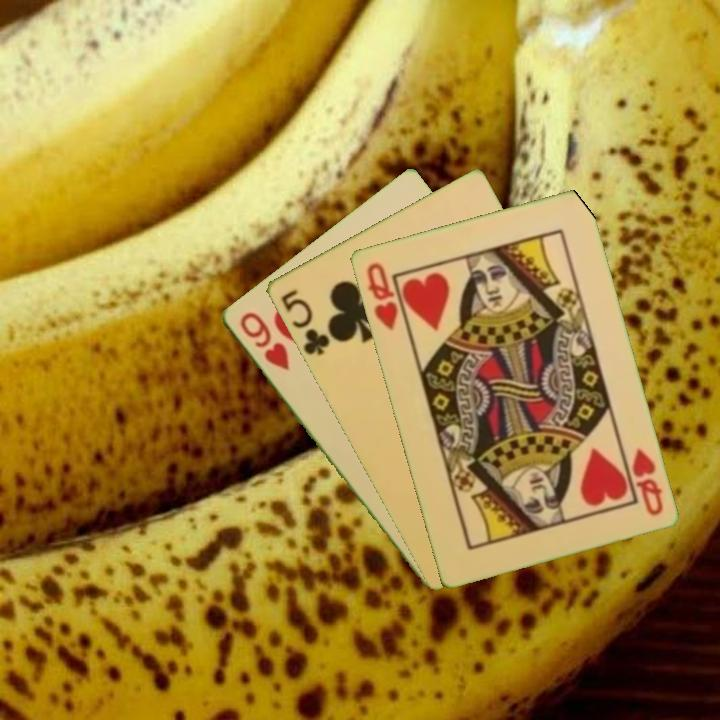5c: (276, 285, 333, 358)
9h: (235, 308, 292, 374)
Qh: (362, 258, 401, 333), (628, 444, 666, 519)
